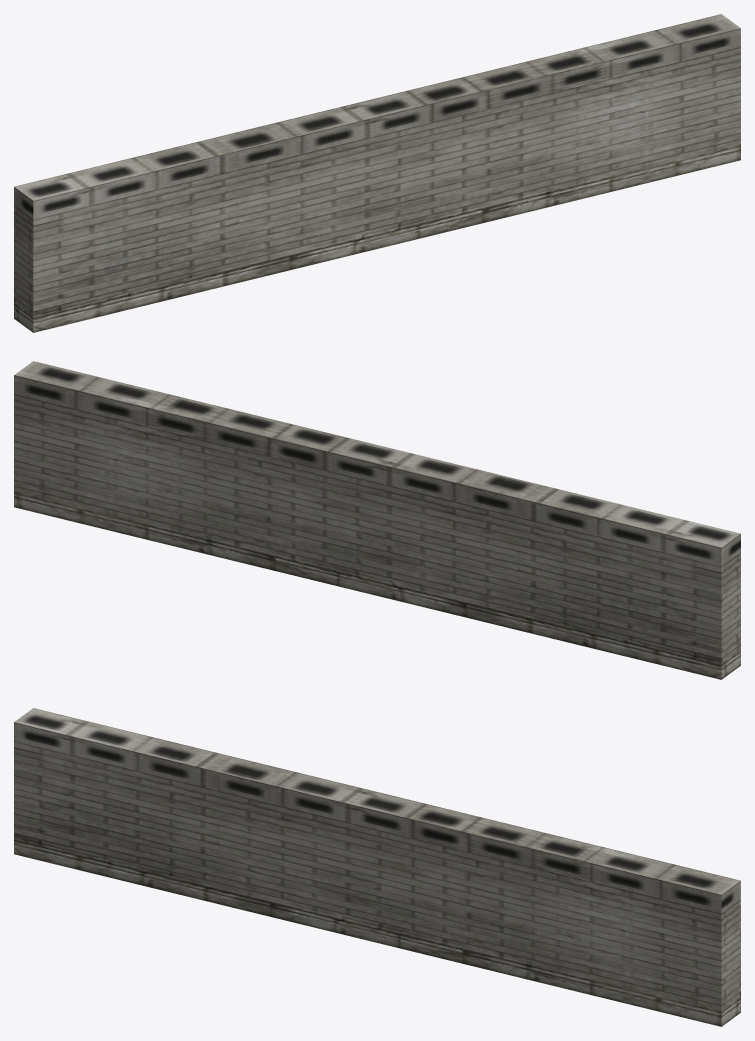
File: dol_dam_02.fbx
3 renders of one model, top to bottom at view 1: azimuth 30°, elevation 25°; view 2: azimuth 150°, elevation 25°; view 3: azimuth 330°, elevation 25°, orthographic.
Parts seen in each view (by area): view 1: polySurface4; view 2: polySurface4; view 3: polySurface4.
Part boxes in pixels (bbox=[...]): polySurface4: bbox=[14, 14, 740, 332]; polySurface4: bbox=[14, 361, 740, 679]; polySurface4: bbox=[14, 708, 740, 1026].
Bounding box in the file's own units: 3.46 × 0.6173 × 0.1647.
1 material, 1 textured.
